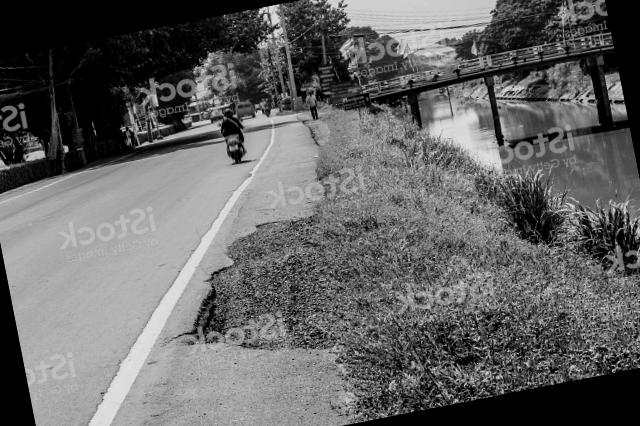Pothole: (166, 175, 365, 394)
